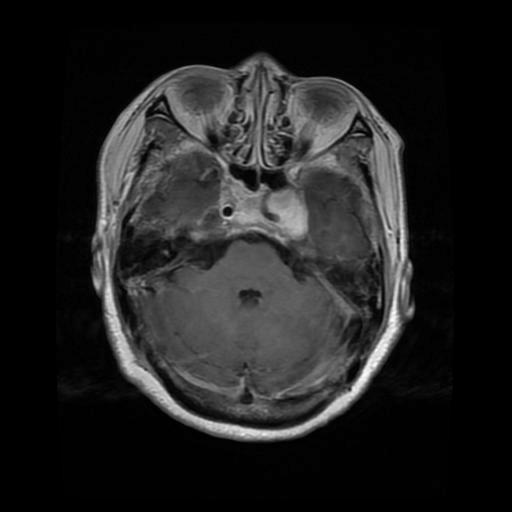Tumour-Meningioma: (206, 164, 317, 257)
